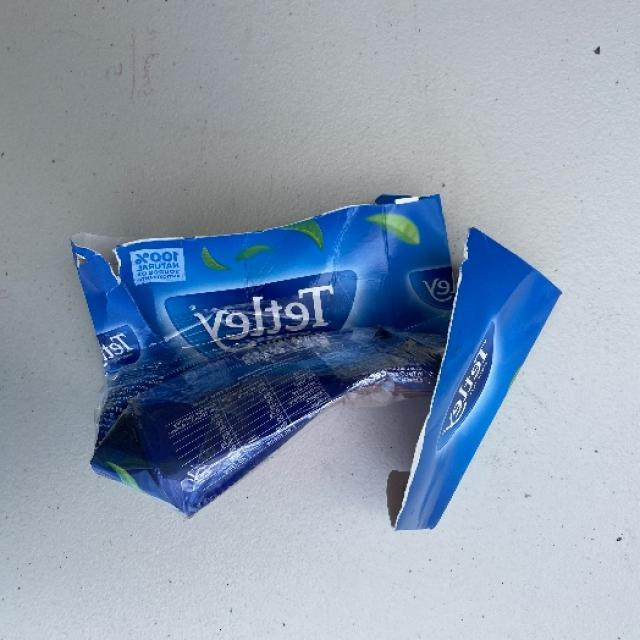kertas: (67, 184, 562, 529)
